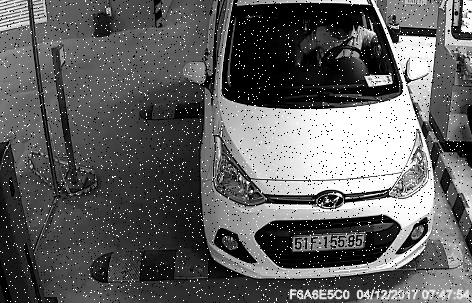License-plate: (291, 226, 377, 261)
